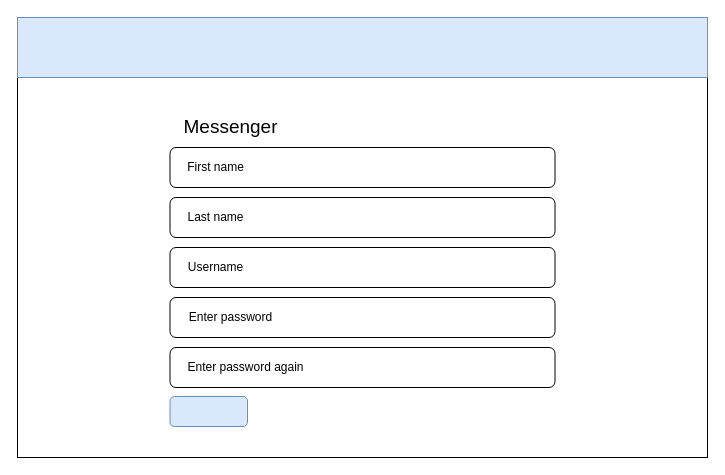
Image size: 725x475. Some labels were removed from this diagram. Here are the shapes that lost their labels. From the top down, the centre of each, then its label:
At [362,47]: "MessageMe".
At [208,411]: "Apply".
